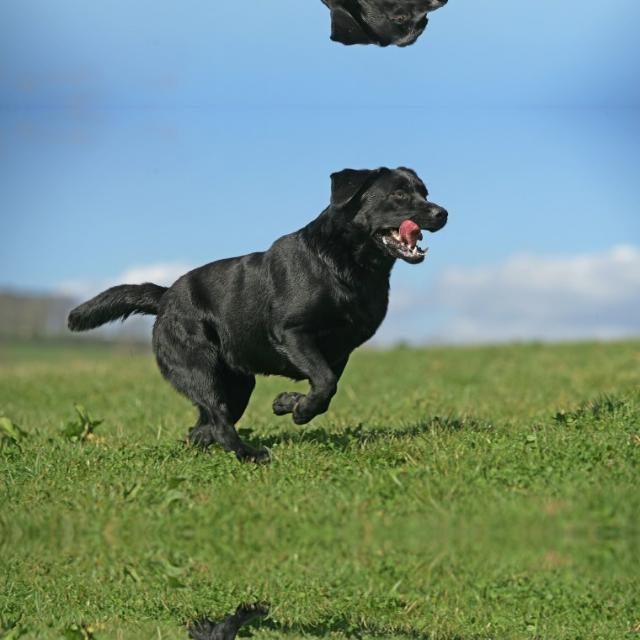dog: (78, 143, 470, 465), (78, 0, 469, 69), (78, 601, 469, 640)
